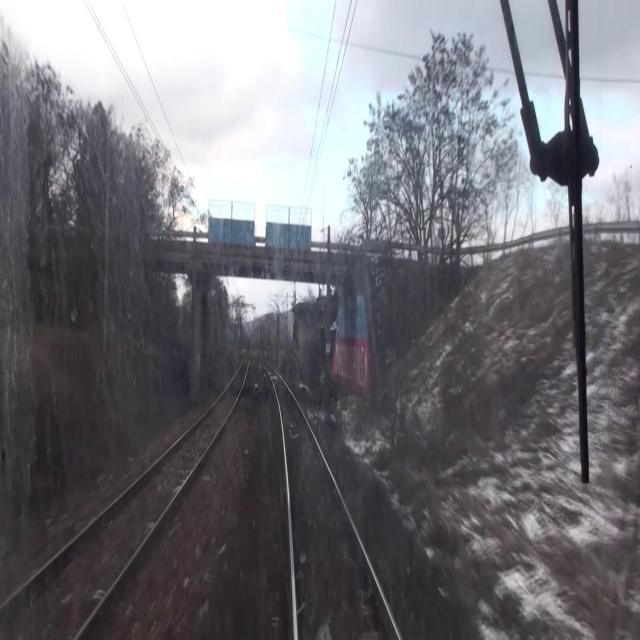rail-track: (0, 359, 247, 639), (264, 362, 397, 639)
